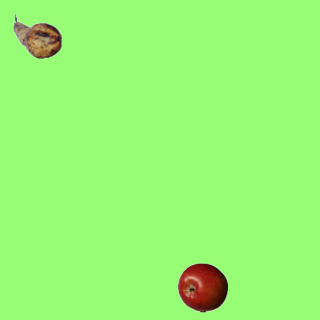Apple Braeburn: (177, 262, 227, 312)
Pear Abate: (12, 11, 62, 61)
